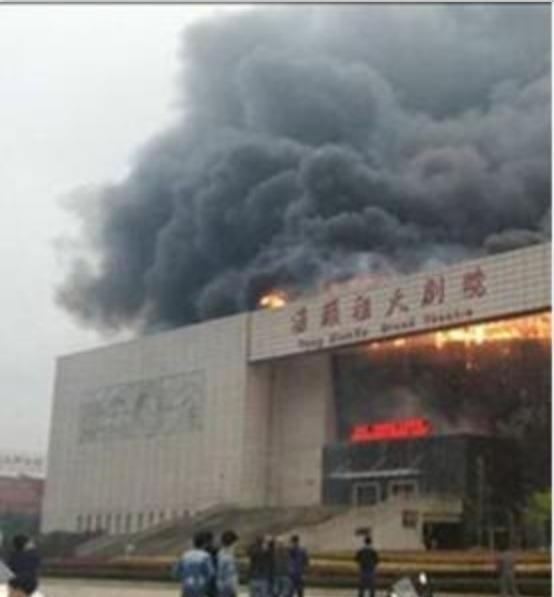fire: (256, 286, 289, 308)
